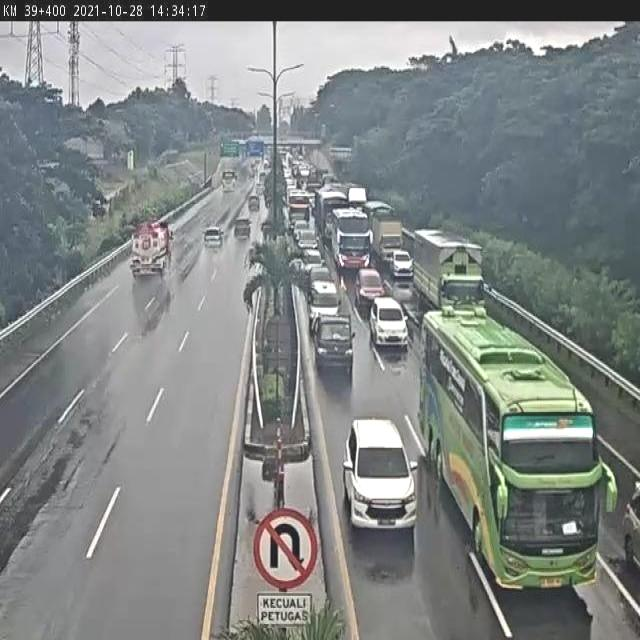Bus: (420, 306, 614, 594), (332, 207, 372, 273)
Car: (342, 414, 416, 532), (315, 313, 356, 367), (369, 298, 409, 346), (202, 224, 223, 250)
Truck: (412, 226, 494, 317), (125, 217, 173, 281)
